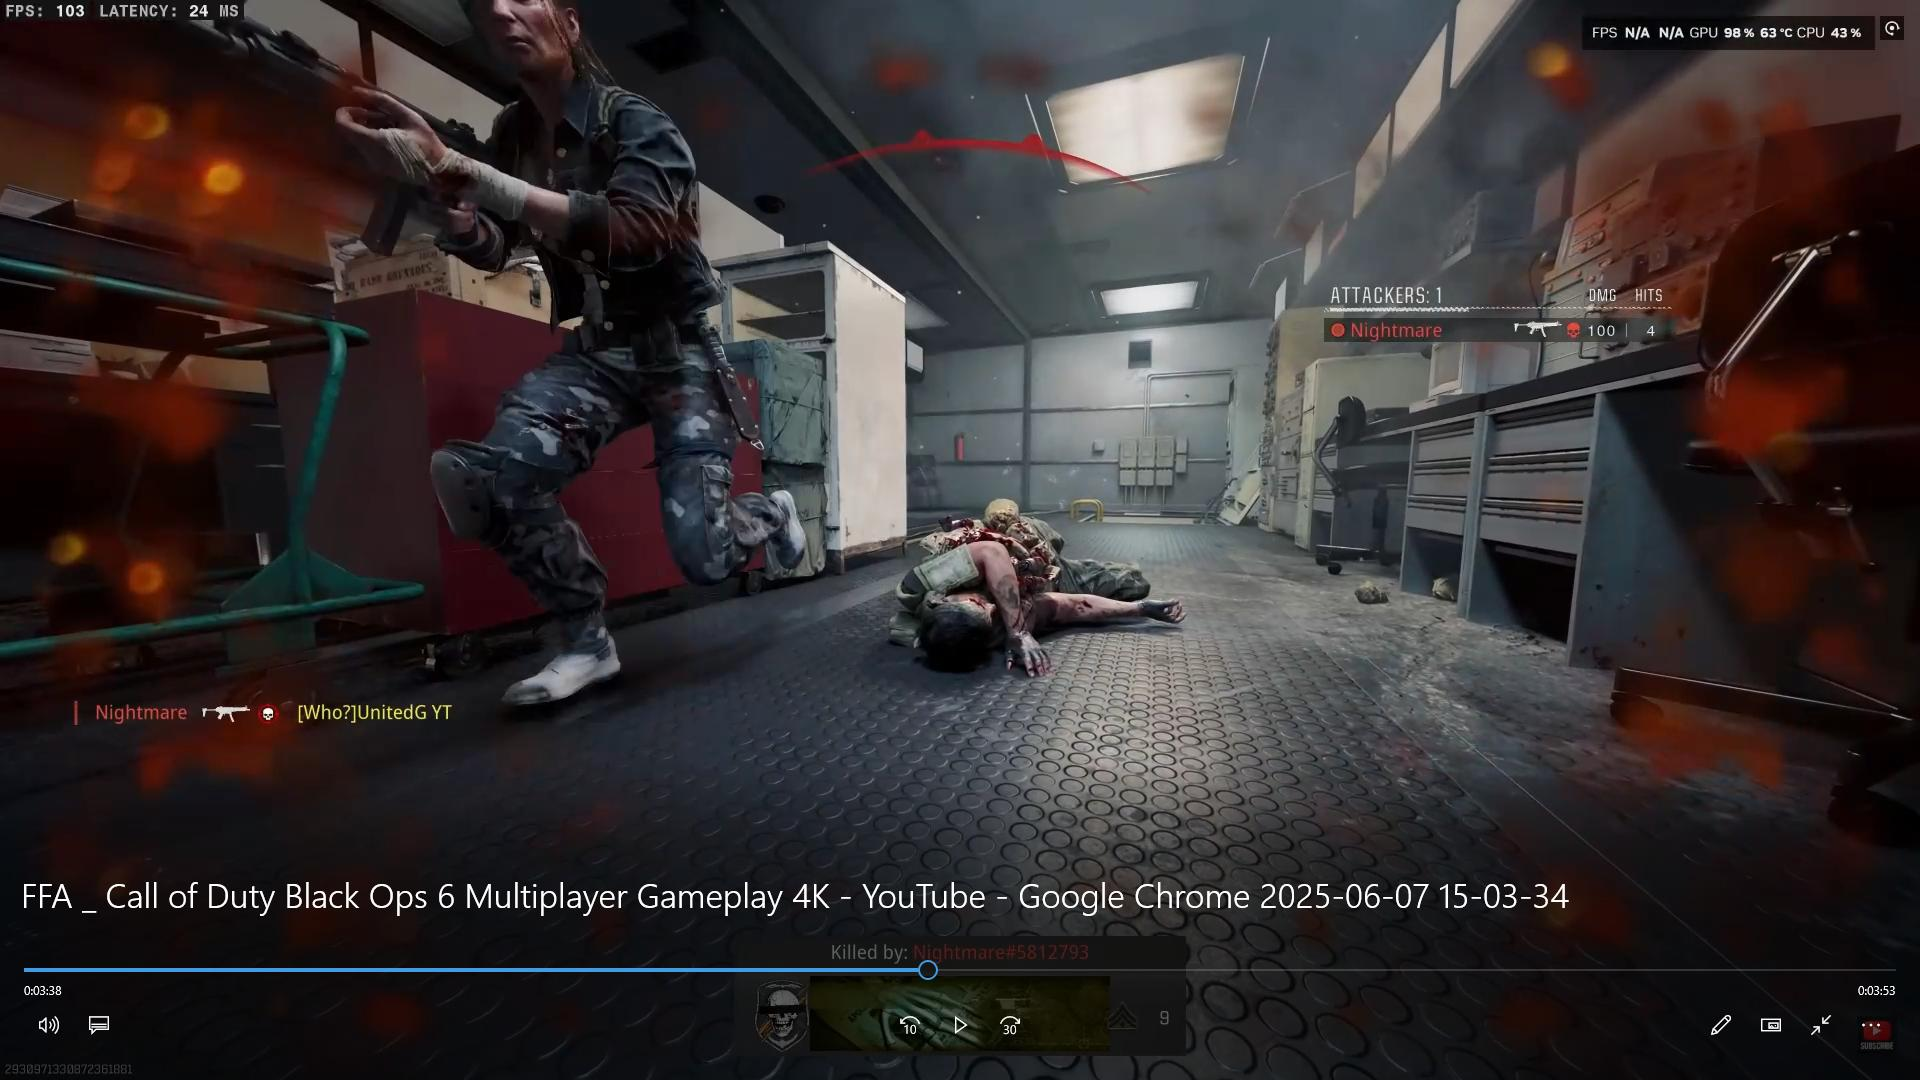Enemy: (401, 1, 816, 715)
